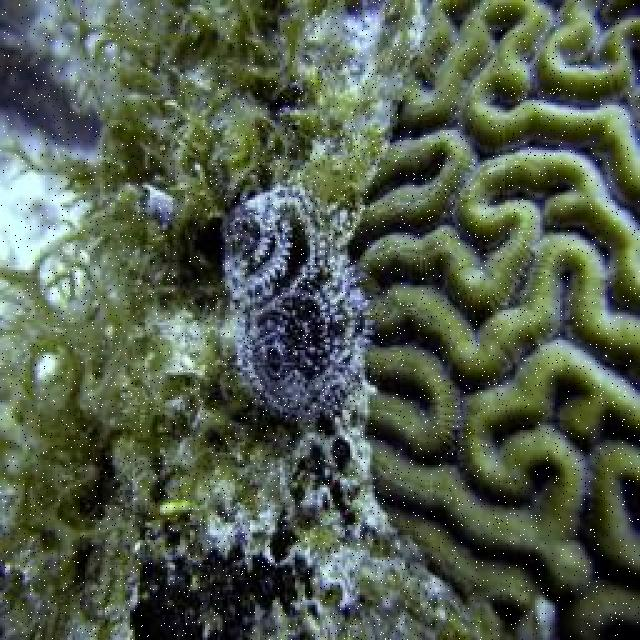aquatic plants: (0, 0, 319, 609)
reefs: (350, 0, 638, 638), (219, 191, 377, 423)
